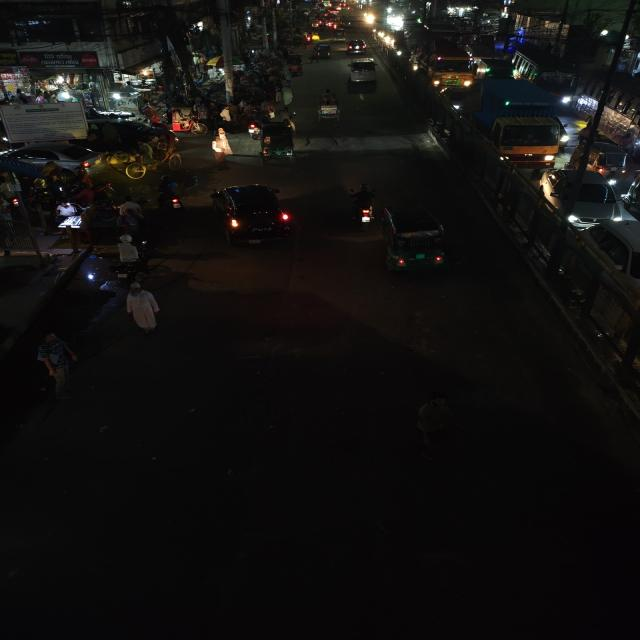bus: (586, 71, 640, 158), (510, 48, 581, 98)
car: (207, 181, 297, 250), (536, 167, 624, 227), (581, 218, 640, 302), (1, 142, 105, 174), (346, 58, 380, 85), (346, 39, 369, 55)
cng: (376, 202, 456, 280), (247, 120, 298, 164), (590, 141, 629, 175), (312, 42, 333, 62), (332, 29, 347, 41)
motorcycle: (109, 235, 149, 287), (346, 182, 379, 228), (154, 176, 188, 212)
pedestrian: (406, 391, 458, 459), (120, 281, 166, 337), (207, 127, 234, 165), (278, 86, 296, 106)
rickshaw: (109, 130, 181, 180), (314, 92, 344, 126), (284, 54, 306, 78)
truck: (475, 79, 568, 167), (414, 34, 476, 90)
